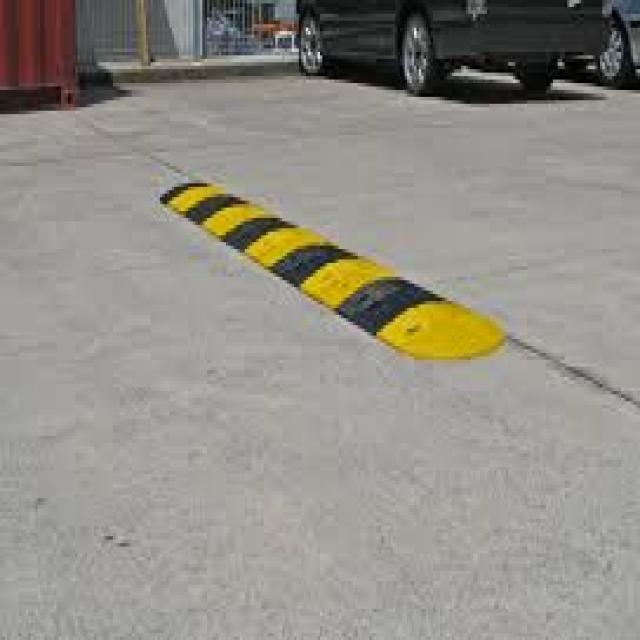speedbreaker: (153, 160, 498, 390)
